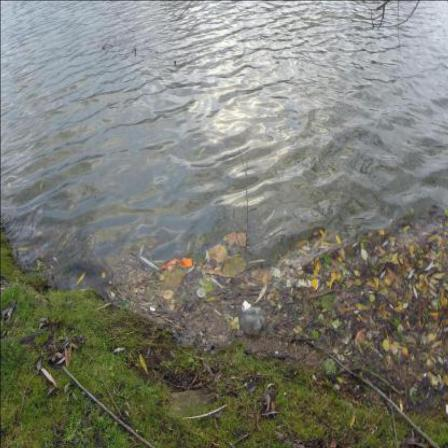Bottle: (240, 307, 266, 335)
Plastic bag - wrapper: (158, 258, 193, 272)
